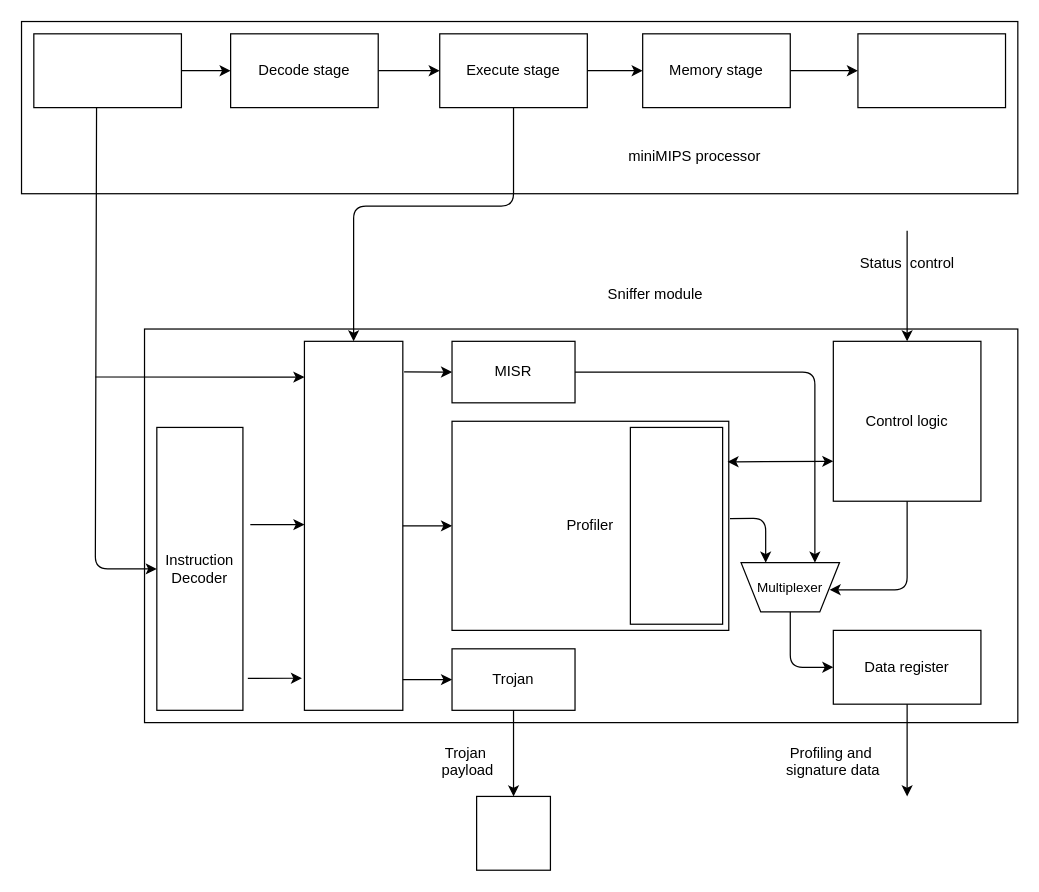
This 1039x892 diagram has some shape labels left out. Each missing label, with the centre of its shape:
"Execution logic" goes at [353,525].
"Fetc h stage" goes at [107,70].
"RAM" goes at [676,525].
"Victim fliplflop" goes at [512,832].
"Writeback stage" goes at [931,70].
